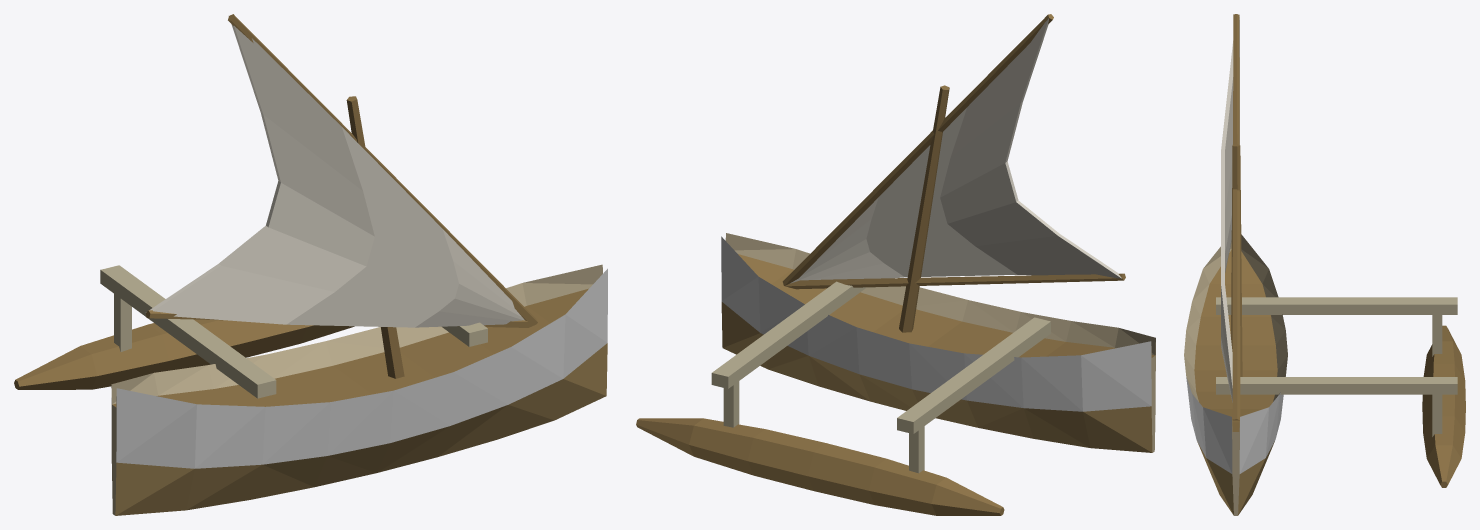
The model's file is outrigger.glb.
The picture shows the model from 3 angles, left to right: view 1: azimuth 30°, elevation 25°; view 2: azimuth 150°, elevation 25°; view 3: azimuth 270°, elevation 25°; orthographic projection. The views are drawn at different scales.
Visible parts, largest first — view 1: sail, trim, hull, float, mast; view 2: sail, trim, float, hull, mast; view 3: float, trim, hull, mast, sail.
Part boxes in pixels (x1=…): sail: x1=146, y1=24, x2=524, y2=327; trim: x1=111, y1=264, x2=607, y2=515; hull: x1=116, y1=268, x2=607, y2=468; float: x1=14, y1=265, x2=487, y2=398; mast: x1=146, y1=14, x2=537, y2=378; sail: x1=790, y1=18, x2=1121, y2=283; trim: x1=721, y1=233, x2=1155, y2=452; float: x1=636, y1=281, x2=1050, y2=515; hull: x1=721, y1=236, x2=1151, y2=411; mast: x1=782, y1=14, x2=1125, y2=332; float: x1=1216, y1=297, x2=1465, y2=487; trim: x1=1184, y1=234, x2=1287, y2=515; hull: x1=1186, y1=377, x2=1283, y2=473; mast: x1=1231, y1=14, x2=1242, y2=420; sail: x1=1221, y1=14, x2=1239, y2=402.
Size of the model in its own units: 1.3 by 1.21 by 0.84.
